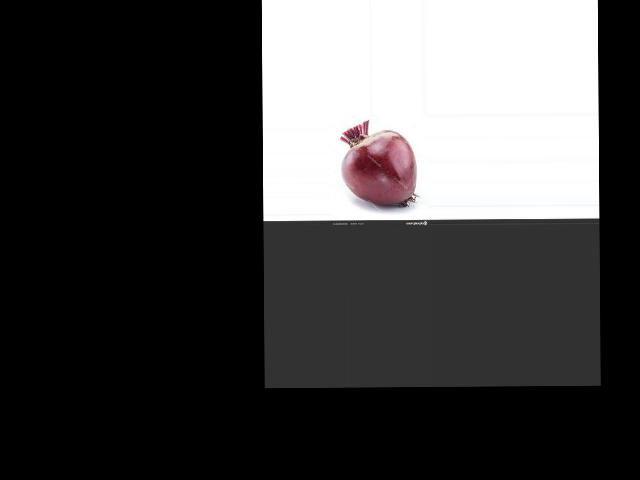beet: (340, 120, 416, 206)
